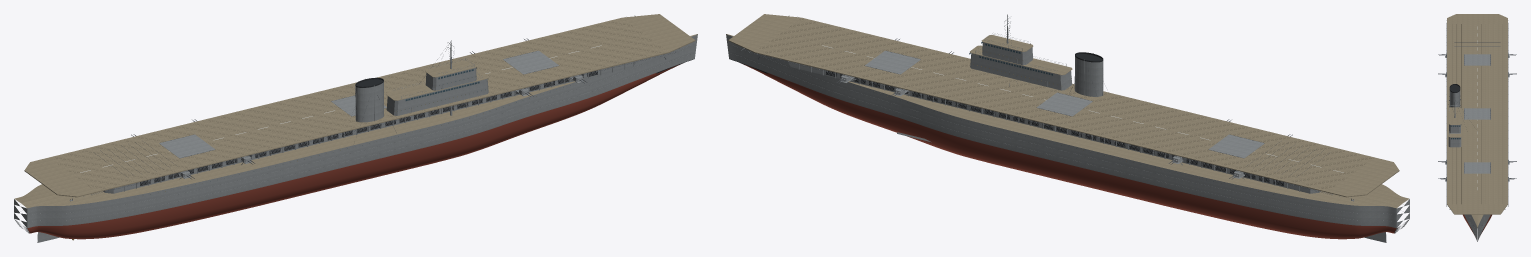
File: ark_royal_cv31.glb
The picture shows the model from 3 angles, left to right: view 1: azimuth 30°, elevation 25°; view 2: azimuth 150°, elevation 25°; view 3: azimuth 270°, elevation 25°; orthographic projection. The views are drawn at different scales.
Visible parts, largest first — view 1: Ark Royal class; view 2: Ark Royal class; view 3: Ark Royal class.
Part boxes in pixels (x1,y1,x2,y2): Ark Royal class: (14, 14, 697, 242); Ark Royal class: (726, 14, 1409, 242); Ark Royal class: (1438, 14, 1516, 241).
Size of the model in its own units: 244 by 41.65 by 38.21.
Materials: 8 (2 with a texture image).
